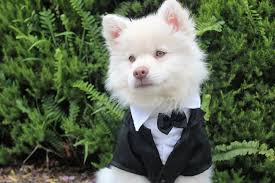dog: (93, 5, 217, 105)
